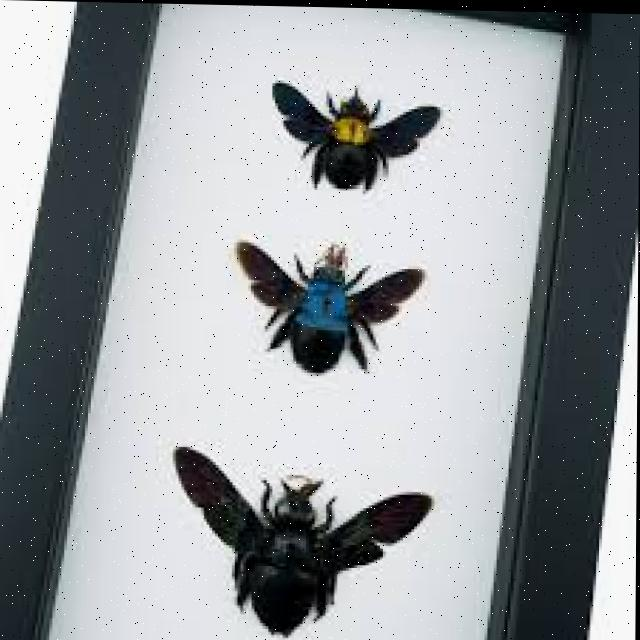Xylocopa: (168, 434, 438, 640), (233, 228, 445, 384), (263, 67, 441, 196)
